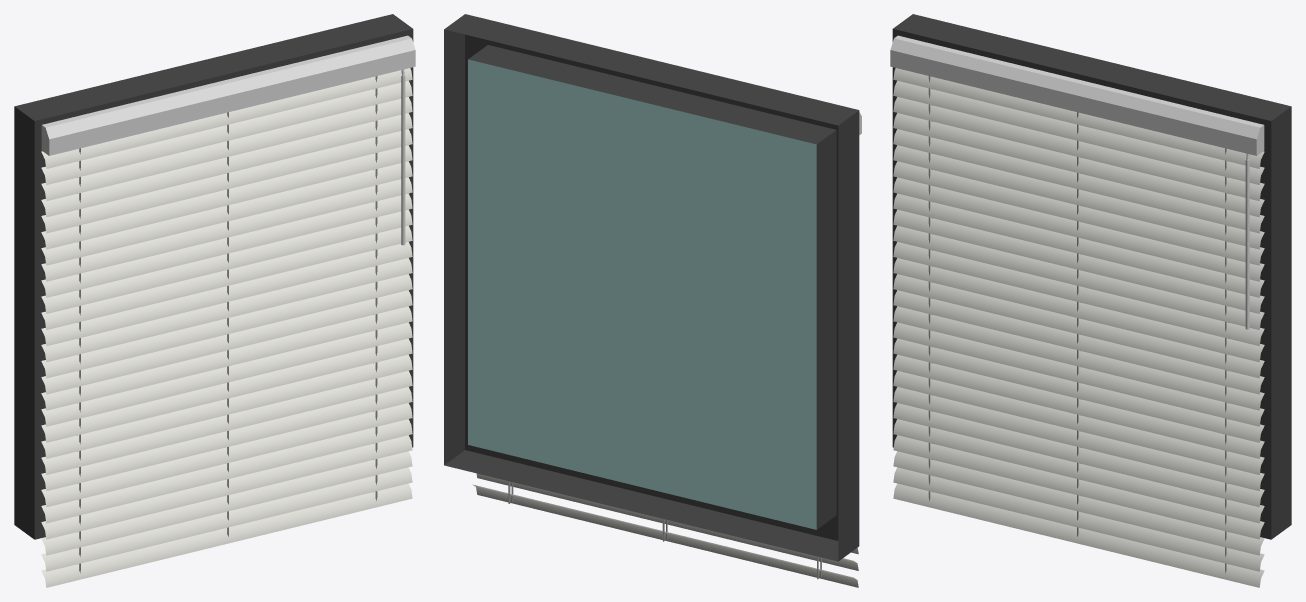
File: Window.fbx
3 renders of one model, left to right at view 1: azimuth 30°, elevation 25°; view 2: azimuth 150°, elevation 25°; view 3: azimuth 330°, elevation 25°, orthographic. The views are drawn at different scales.
Visible parts, largest first — view 1: pCylinder22; view 2: pCylinder22; view 3: pCylinder22.
Boxes of the visible parts, box(x1,y1,x2,y2) form: pCylinder22: box(14, 14, 415, 587); pCylinder22: box(444, 14, 861, 587); pCylinder22: box(890, 14, 1291, 587).
Bounding box in the file's own units: 132 × 155 × 17.33.
